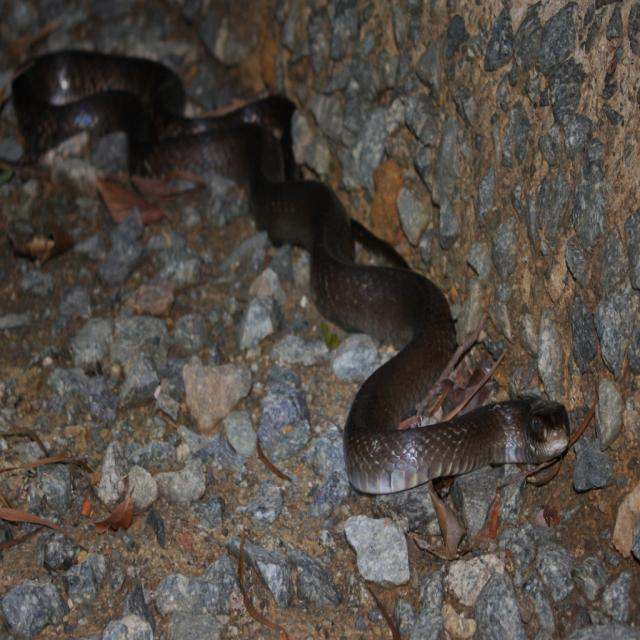Snake: (7, 47, 588, 494)
